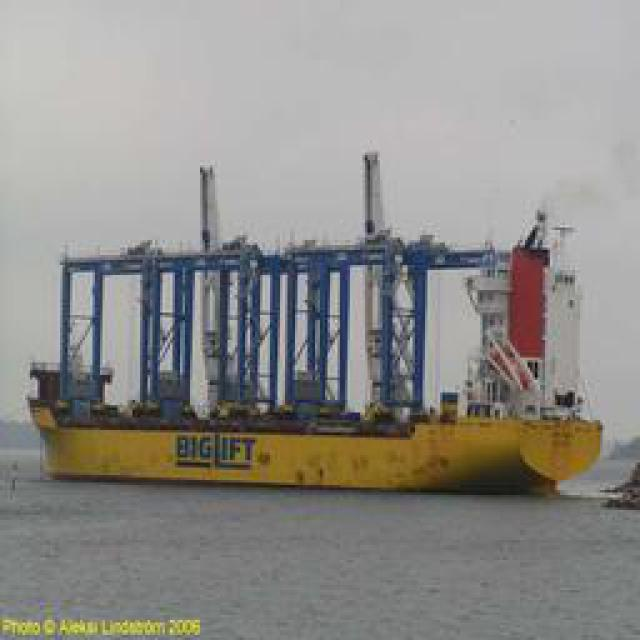Ship: (20, 147, 618, 500)
